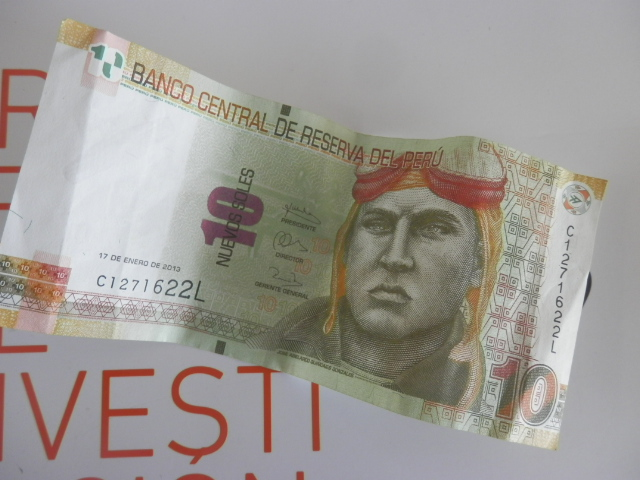B10: (13, 17, 624, 470)
